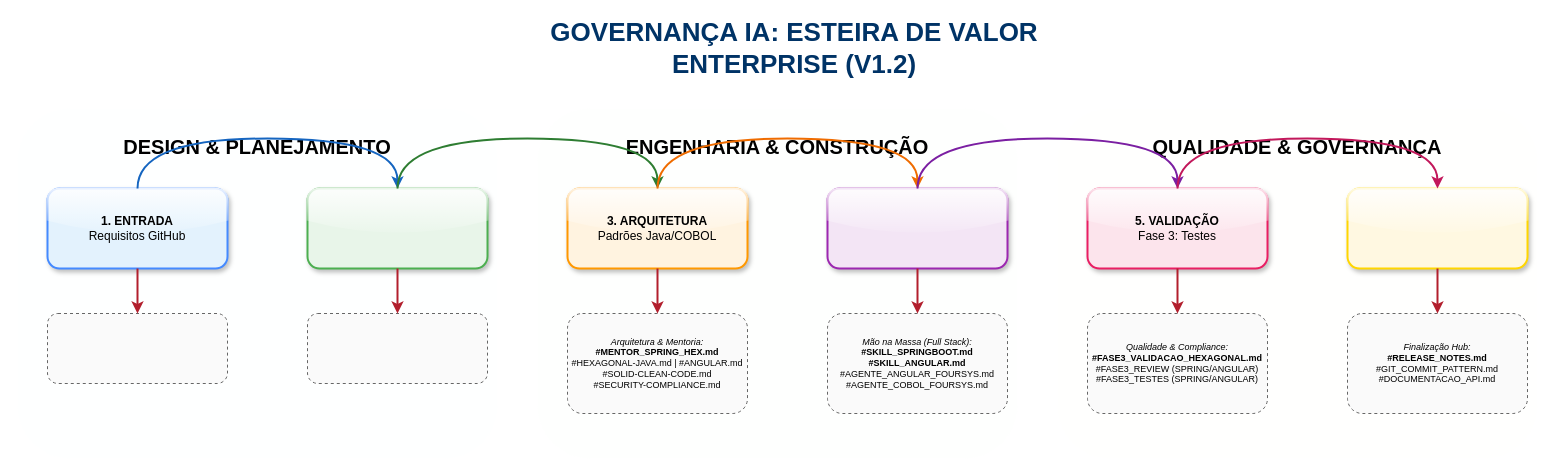
This 1554x475 diagram has some shape labels left out. Each missing label, with the centre of its shape:
2. REFINAMENTO Fase 1: Histórias: the point at 398,229
4. CONSTRUÇÃO Skills e Fase 5: the point at 918,229
6. ENTREGA Fase 4: MR Docs: the point at 1438,229
Refinement: #ESTORIA_USUARIO.md #GERADOR_CRITERIOS.md: the point at 397,348
Trigger: GitHub Actions #REQUISITOS_ESTRUTURADOS: the point at 137,348
